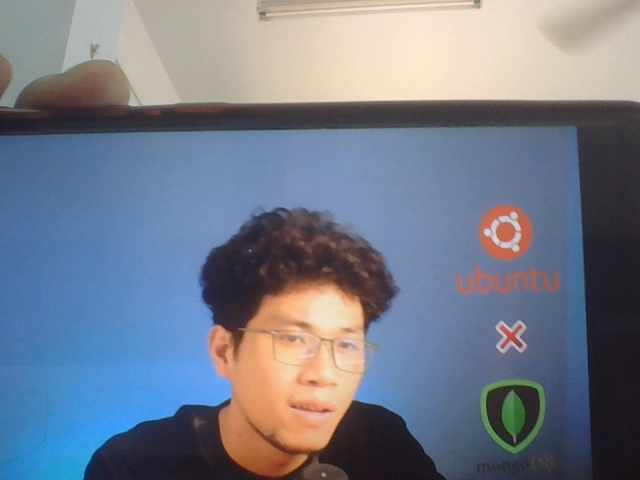fake: (219, 226, 381, 455)
